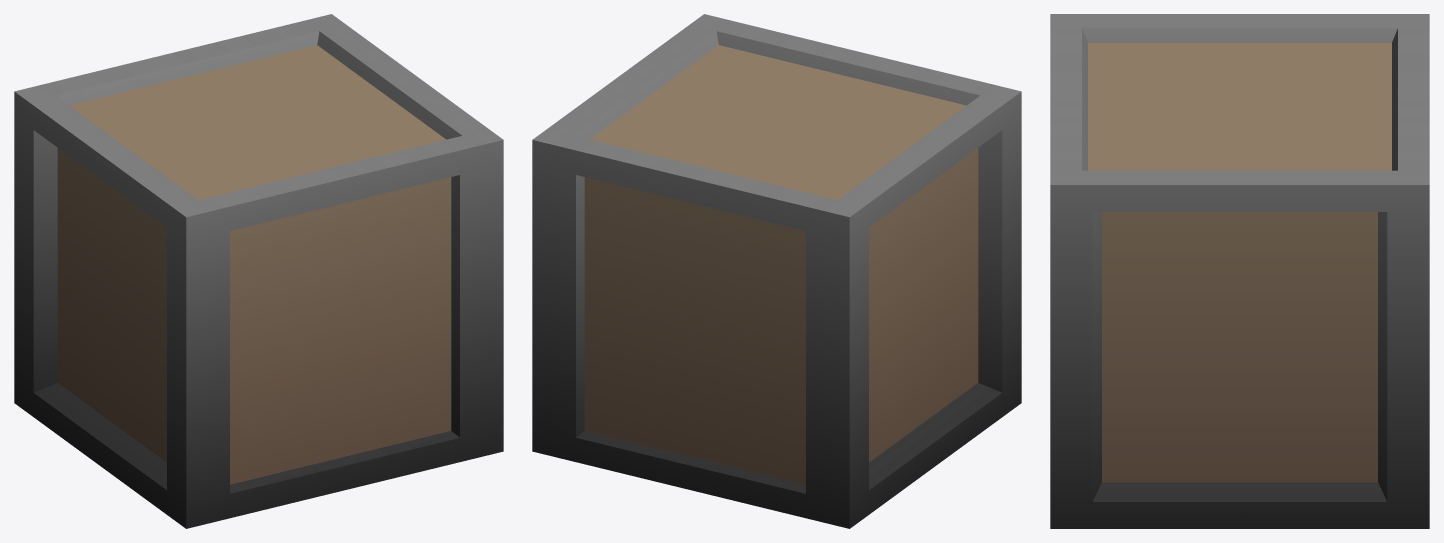
File: ItemPropsBoxl.fbx
3 renders of one model, left to right at view 1: azimuth 30°, elevation 25°; view 2: azimuth 150°, elevation 25°; view 3: azimuth 270°, elevation 25°, orthographic. The views are drawn at different scales.
Parts seen in each view (by area): view 1: Cube; view 2: Cube; view 3: Cube.
Boxes of the visible parts, x1,y1,x2,y2 form: Cube: (14,14,503,528); Cube: (532,14,1021,528); Cube: (1050,14,1429,528).
Bounding box in the file's own units: 191 × 179 × 179.
